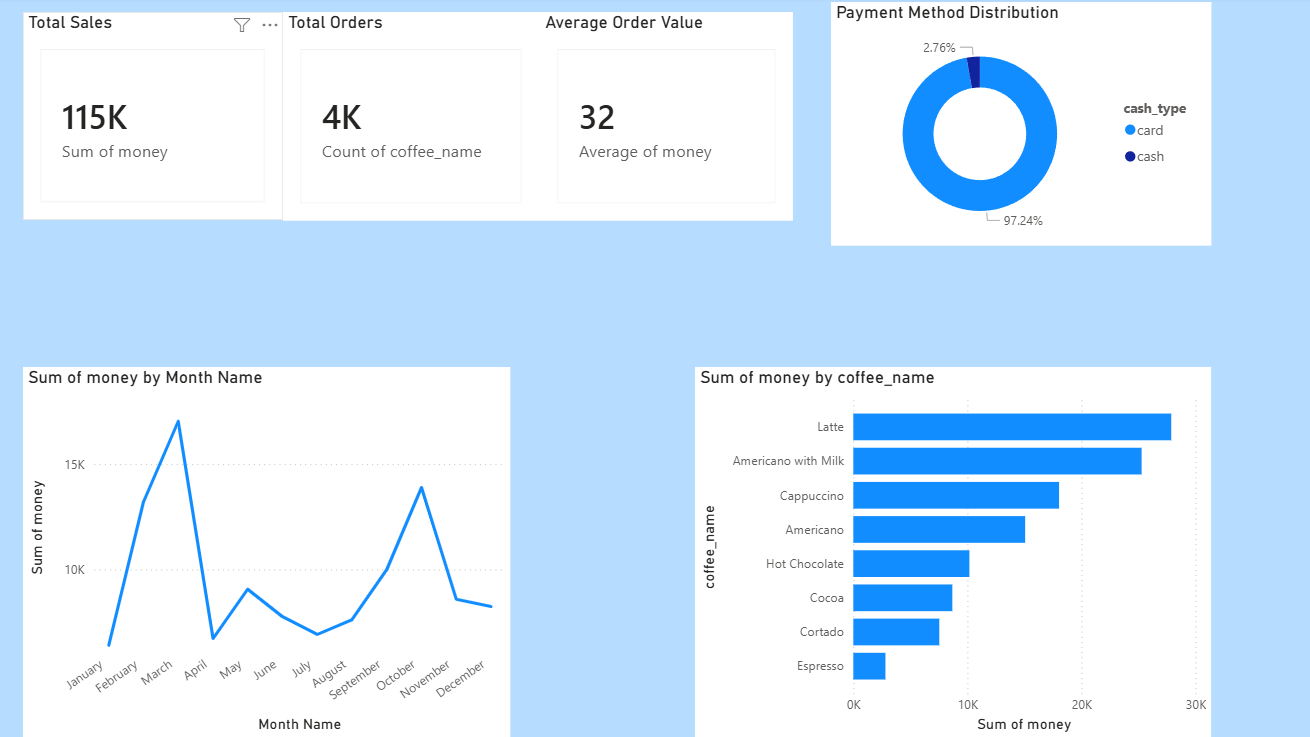

The page's visual inventory and layout, read from the dashboard file:
{"tool":"powerbi","page":{"name":"Page 1","canvas":[1280,720],"ordinal":0},"visuals":[{"type":"lineChart","fields":{"Category":["CalendarTable.Month Name"],"Y":["Sum(index_1.money)"]},"box":[24.3,359.9,473.7,359.9],"z":0},{"type":"clusteredBarChart","fields":{"Category":["index_1.coffee_name"],"Y":["Sum(index_1.money)"]},"box":[677.9,359.9,501.9,359.9],"z":2},{"type":"cardVisual","title":"Total Sales","fields":{"Data":["Sum(index_1.money)"]},"box":[24.3,14.6,252.9,202.3],"z":3},{"type":"cardVisual","title":"Total Orders","fields":{"Data":["CountNonNull(index_1.coffee_name)"]},"box":[277.2,14.6,250,203.3],"z":4},{"type":"cardVisual","title":"Average Order Value","fields":{"Data":["Avg(index_1.money)"]},"box":[527.2,14.6,246.1,203.3],"z":5},{"type":"donutChart","title":"Payment Method Distribution","fields":{"Category":["index_1.cash_type"],"Y":["Sum(index_1.money)"]},"box":[810.2,4.9,369.6,237.3],"z":6}]}

Visuals, with their boxes in screenshot pixels (x1, y1, x2, y2), scaled from the page's 1280x720 canvas onto the 1310x737 screenshot:
lineChart - CalendarTable.Month Name x Sum(index_1.money): l=25, t=368, r=510, b=736
clusteredBarChart - index_1.coffee_name x Sum(index_1.money): l=694, t=368, r=1207, b=736
"Total Sales" cardVisual: l=25, t=15, r=284, b=222
"Total Orders" cardVisual: l=284, t=15, r=540, b=223
"Average Order Value" cardVisual: l=540, t=15, r=791, b=223
"Payment Method Distribution" donutChart: l=829, t=5, r=1207, b=248
